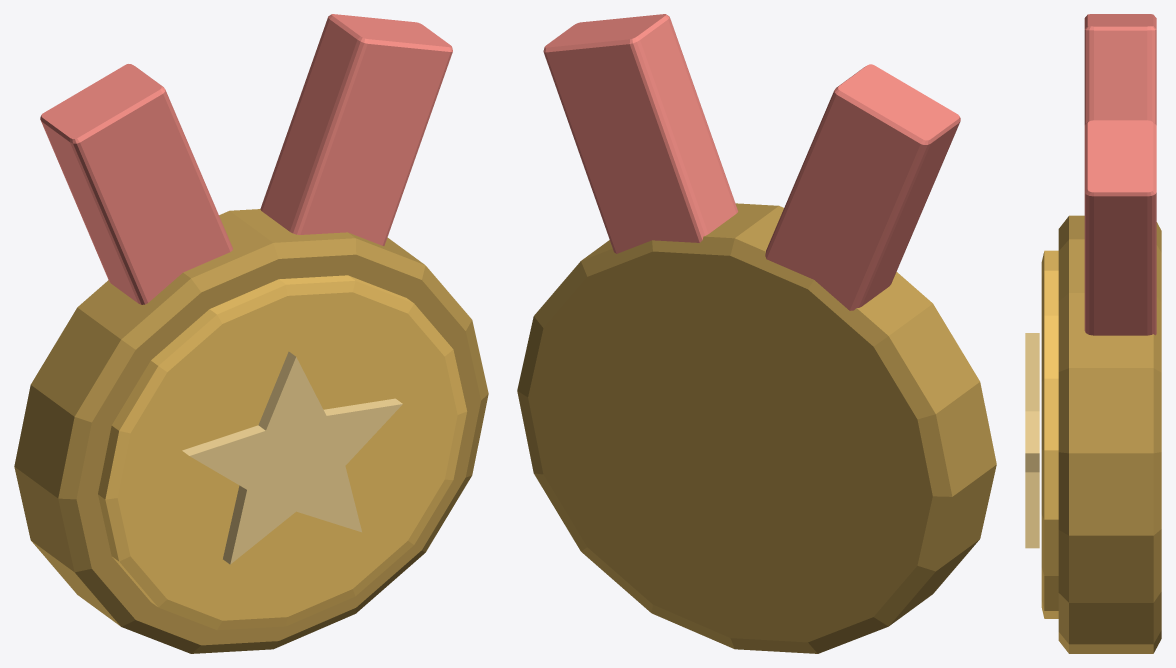
Rendered from award_medal.glb.
3 renders of one model, left to right at view 1: azimuth 30°, elevation 25°; view 2: azimuth 150°, elevation 25°; view 3: azimuth 270°, elevation 25°, orthographic. The views are drawn at different scales.
Visible parts, largest first — view 1: model; view 2: model; view 3: model.
Boxes of the visible parts, left/top/right/bottom form: model: left=14, top=14, right=488, bottom=653; model: left=517, top=14, right=996, bottom=653; model: left=1025, top=14, right=1161, bottom=653.
Size of the model in its own units: 0.35 by 0.45 by 0.1.
